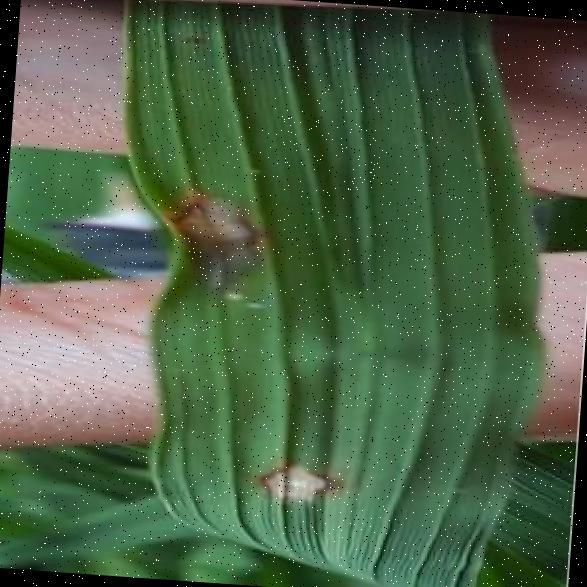Leaf_smut: (148, 146, 286, 318), (218, 421, 348, 518)
